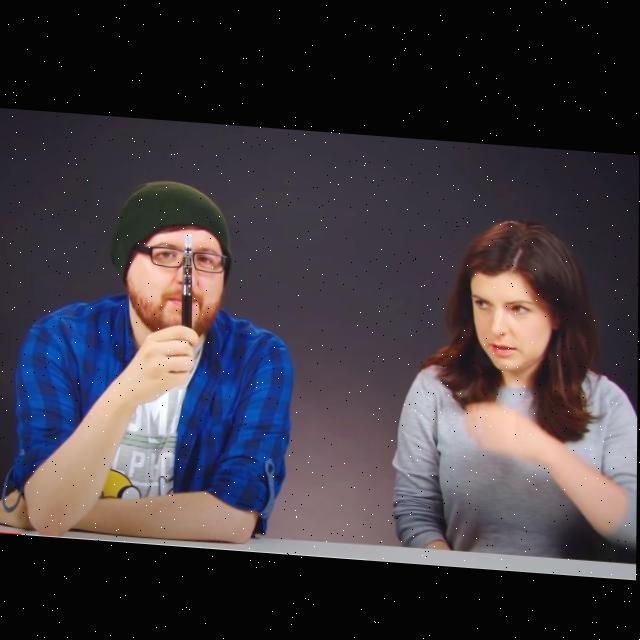vape: (181, 229, 194, 325)
